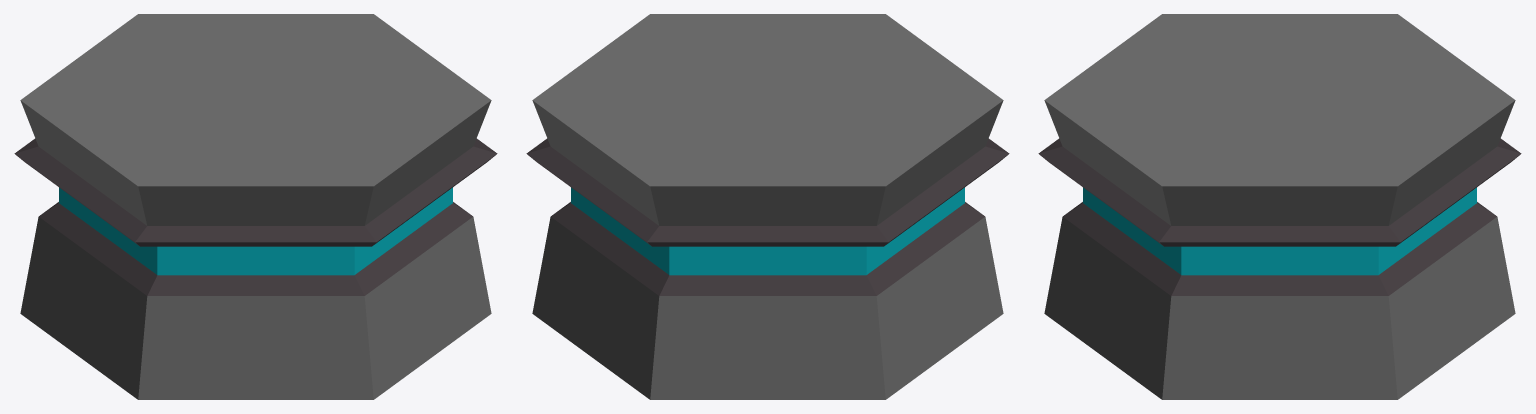
File: 6sidedRANGE.fbx
The picture shows the model from 3 angles, left to right: view 1: azimuth 30°, elevation 25°; view 2: azimuth 150°, elevation 25°; view 3: azimuth 270°, elevation 25°; orthographic projection.
Parts seen in each view (by area): view 1: Cylinder; view 2: Cylinder; view 3: Cylinder.
Boxes of the visible parts, x1,y1,x2,y2 form: Cylinder: (14, 14, 497, 399); Cylinder: (526, 14, 1009, 399); Cylinder: (1038, 14, 1521, 399).
Bounding box in the file's own units: 178 × 100 × 205.
